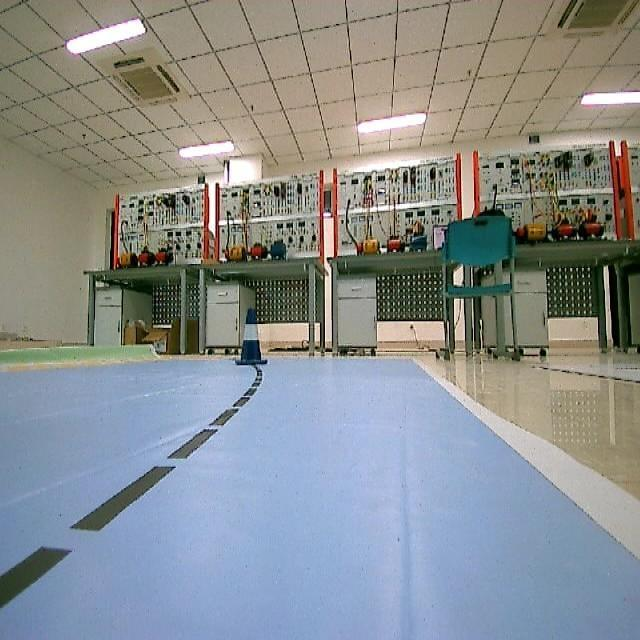obstacle: (232, 308, 270, 374)
